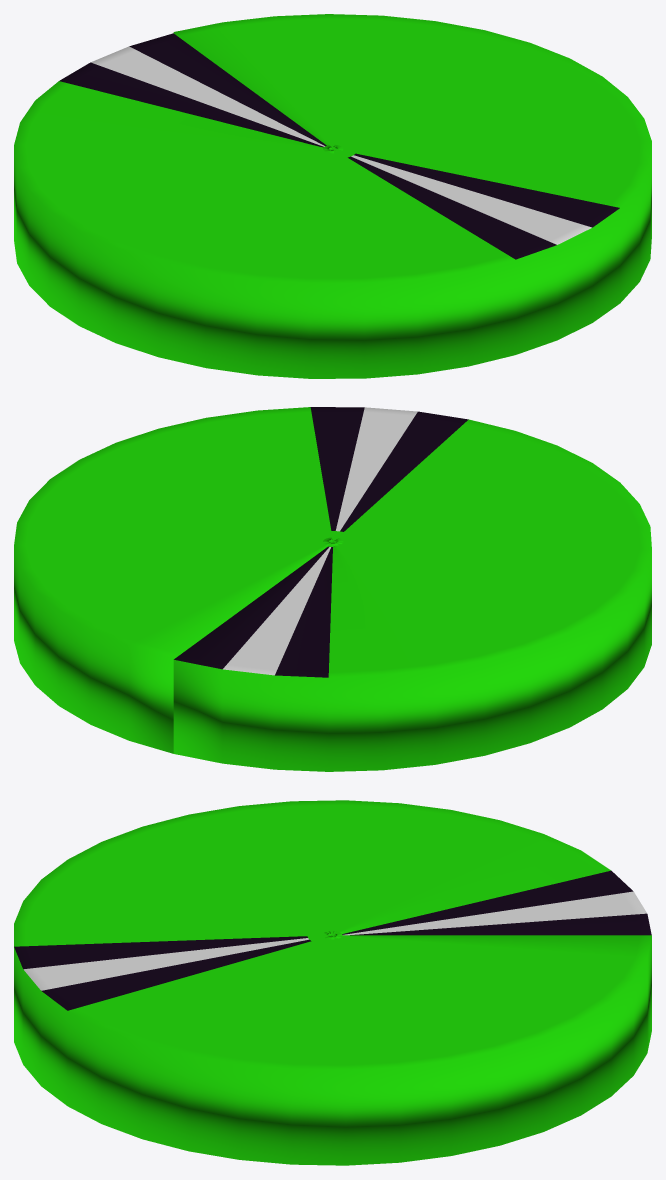
File: completeCircleGreenWithTwoSides.fbx
3 renders of one model, top to bottom at view 1: azimuth 30°, elevation 25°; view 2: azimuth 150°, elevation 25°; view 3: azimuth 270°, elevation 25°, orthographic.
Visible parts, largest first — view 1: Cube; view 2: Cube; view 3: Cube.
Part boxes in pixels (box(x1,y1,x2,y2)): Cube: box(14, 14, 651, 378); Cube: box(14, 407, 651, 771); Cube: box(14, 800, 651, 1165).
Bounding box in the file's own units: 6087 × 1004 × 6082.
